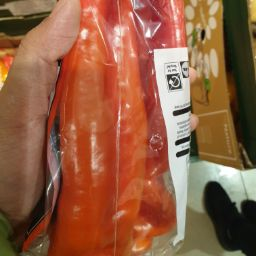Jalapeno pepper: (22, 5, 155, 255)
